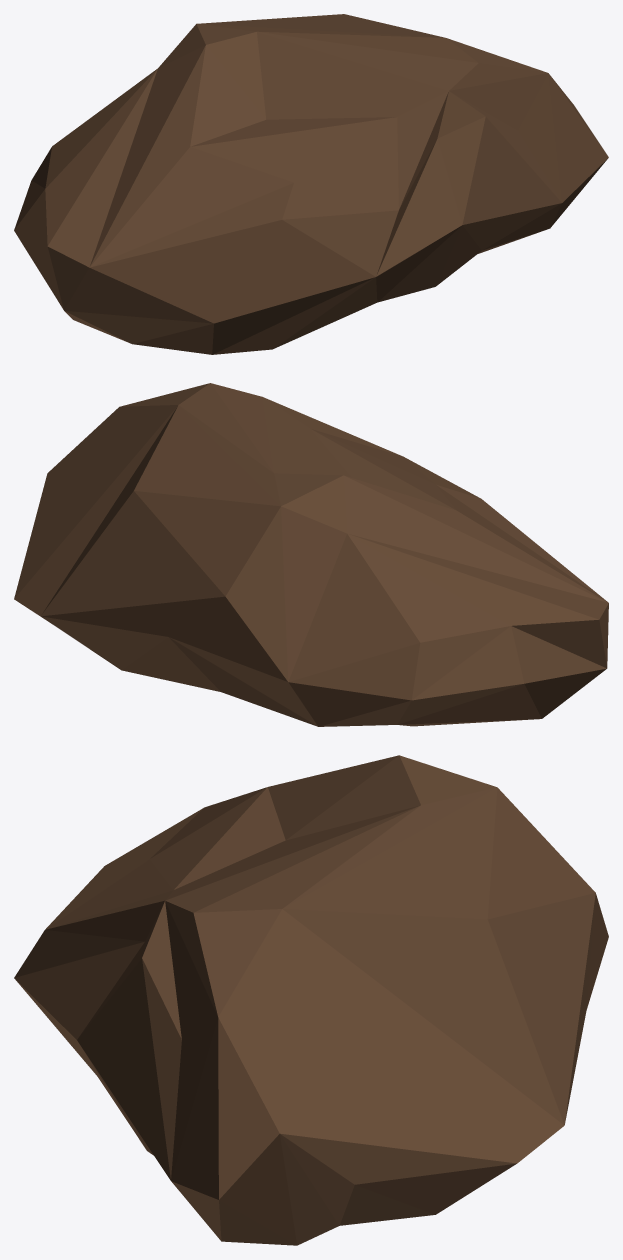
The model's file is rock5.fbx.
3 views of the same model, one above another, from view 1: azimuth 30°, elevation 25°; view 2: azimuth 150°, elevation 25°; view 3: azimuth 270°, elevation 25° (orthographic). The views are drawn at different scales.
Parts seen in each view (by area): view 1: Cube.004; view 2: Cube.004; view 3: Cube.004.
Boxes of the visible parts, x1=… form: Cube.004: x1=14, y1=14, x2=608, y2=354; Cube.004: x1=14, y1=383, x2=608, y2=726; Cube.004: x1=14, y1=755, x2=608, y2=1245.
Size of the model in its own units: 2.25 by 0.9734 by 1.51.
